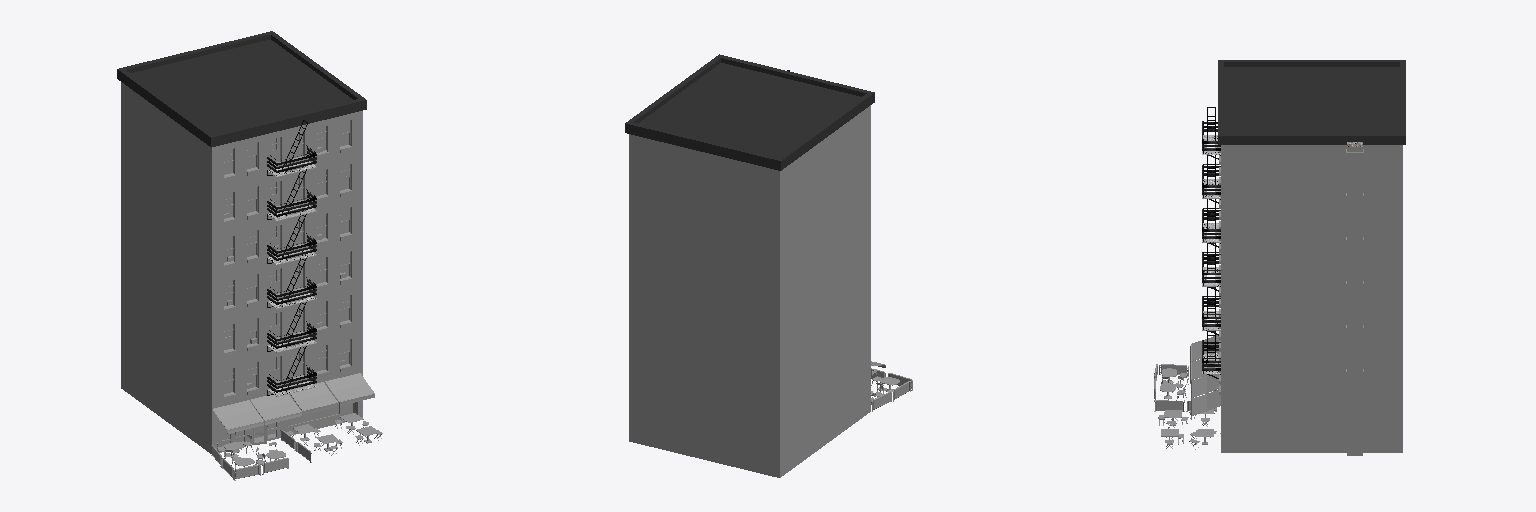
3 renders of one model, left to right at view 1: azimuth 30°, elevation 25°; view 2: azimuth 150°, elevation 25°; view 3: azimuth 270°, elevation 25°, orthographic.
Visible parts, largest first — view 1: Cube.001; view 2: Cube.001; view 3: Cube.001.
Boxes of the visible parts, x1,y1,x2,y2 form: Cube.001: [117, 31, 382, 480]; Cube.001: [625, 54, 912, 477]; Cube.001: [1154, 60, 1405, 455].
Size of the model in its own units: 19.2 by 34.88 by 25.02.
15 materials, 4 textured.